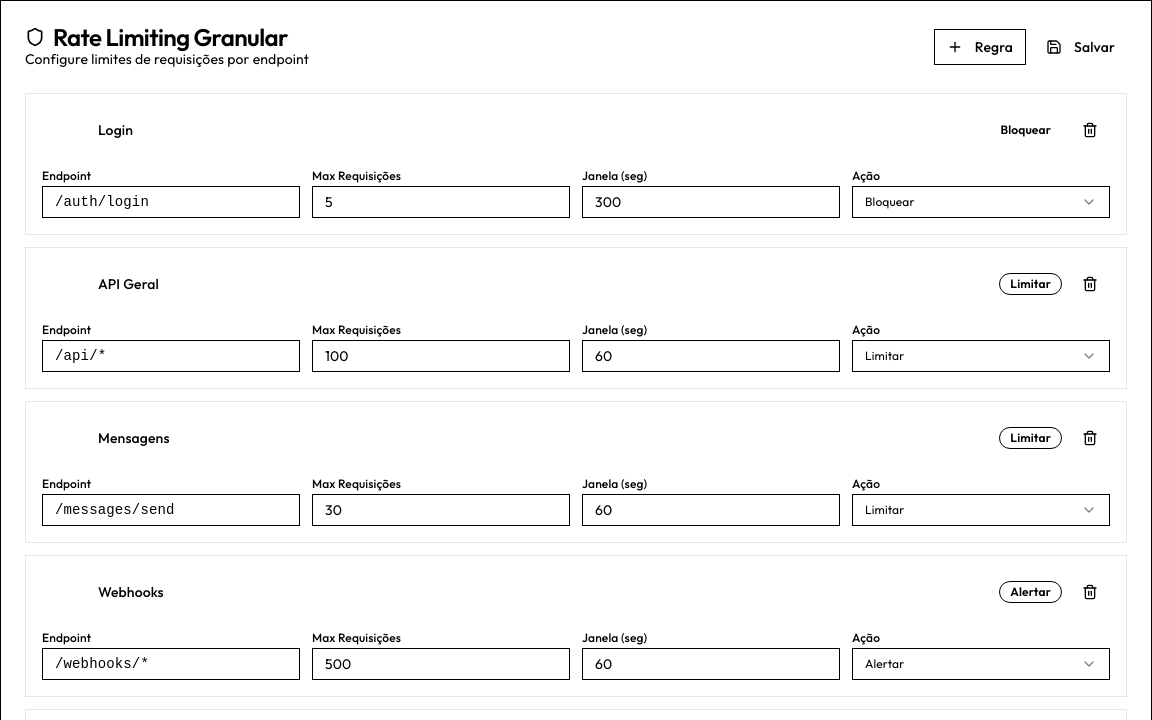
it: RateLimitConfigPanel › Add rule › adds a new rule when add button clicked
This screenshot has width=1152, height=720.
Click the button "Regra".
click(980, 47)  # box [934,29,1026,65]
(page scrolled)
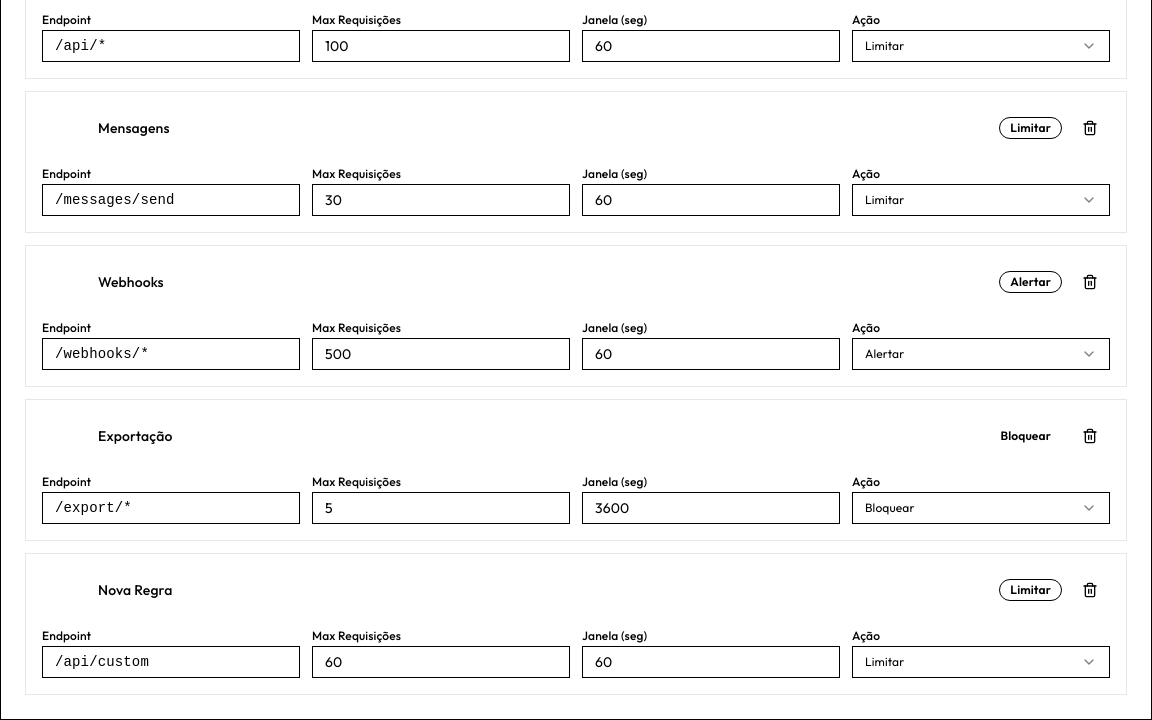
Expected: the 8th field showing "Nova Regra" is shown, [98,576,301,604]
